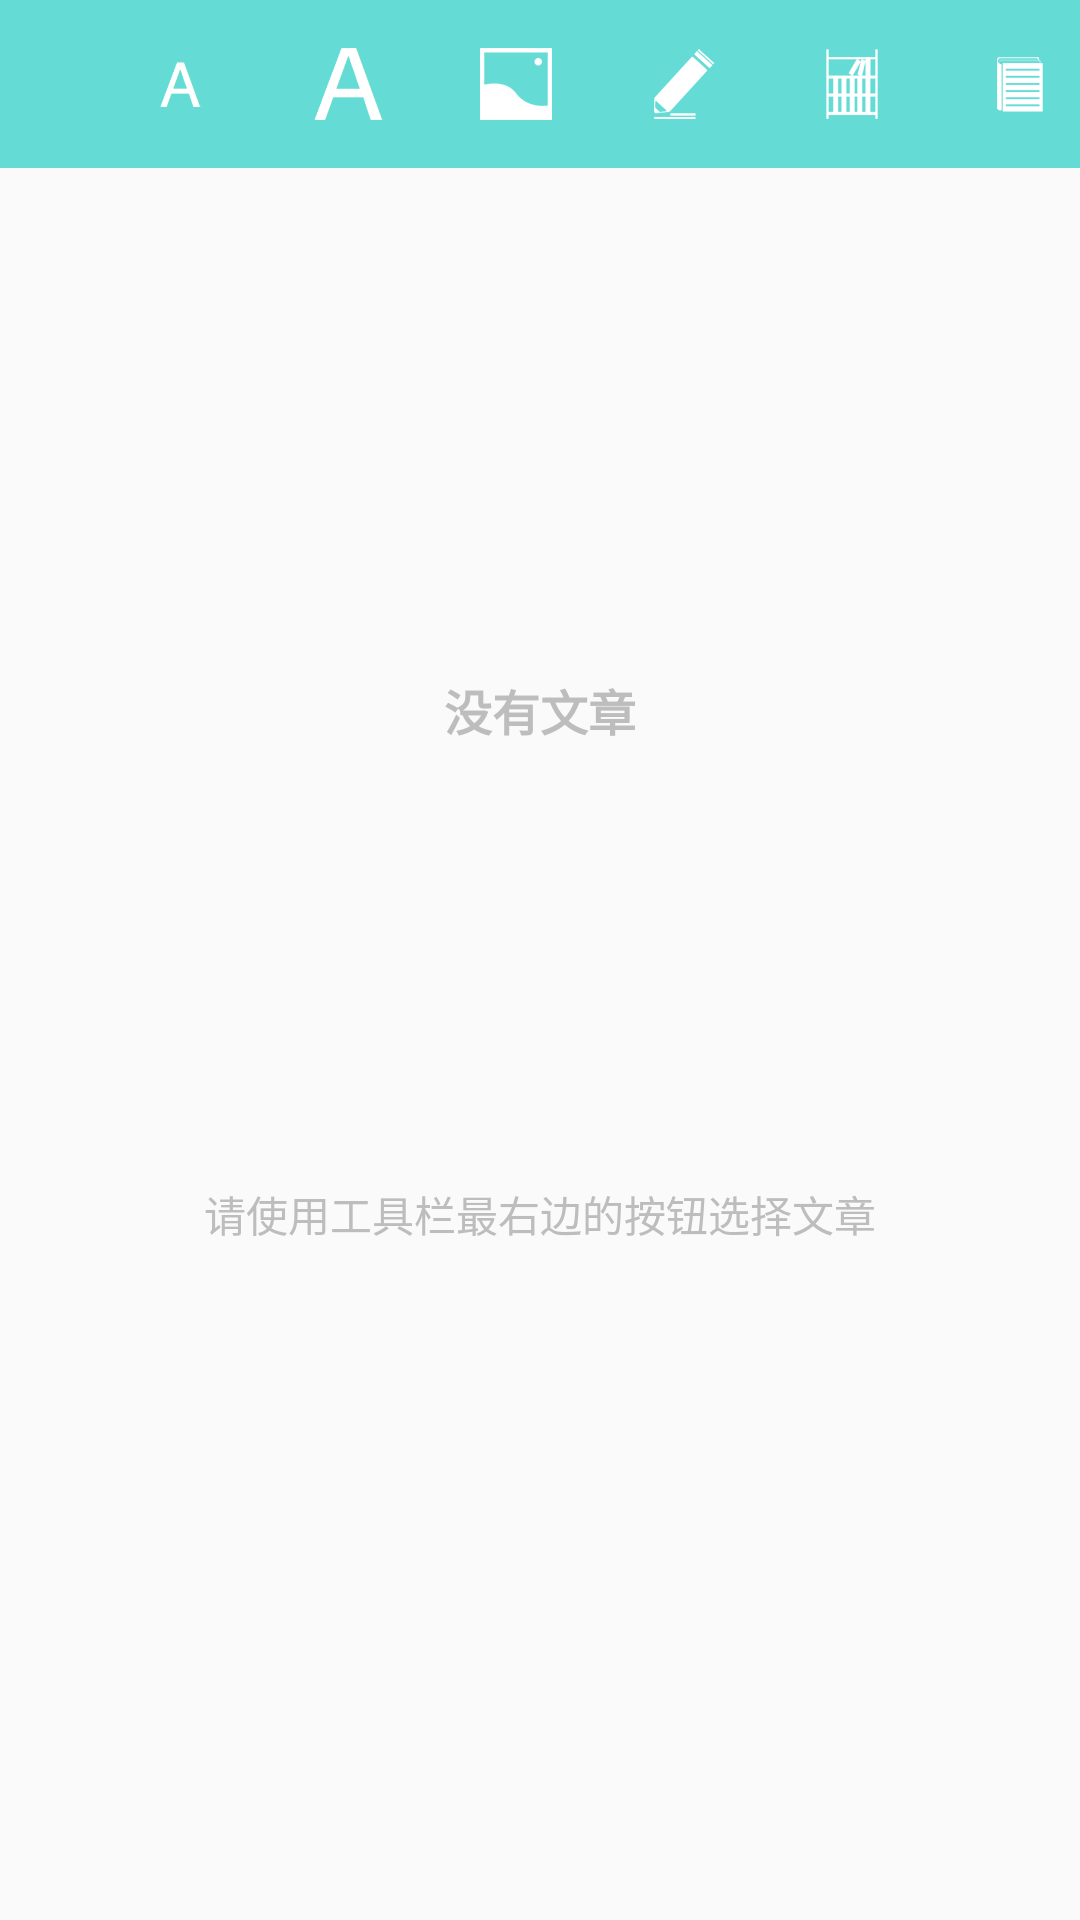

Named icons in this screenshot (1080px×1920px) and their bounding boxes, (x1, y1, x2, y2):
decrease font: (160, 62, 201, 107)
increase font: (315, 48, 383, 120)
marking: (654, 49, 714, 119)
